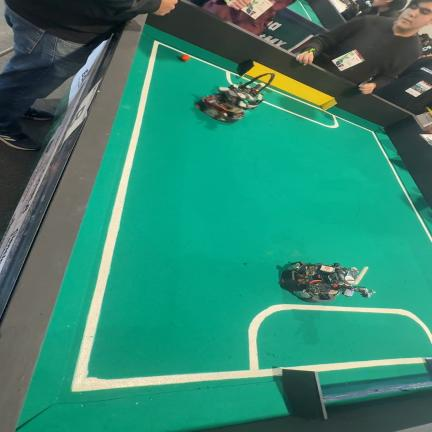cancha: (17, 29, 432, 432)
limites: (71, 41, 432, 392), (264, 102, 432, 243), (191, 56, 240, 84), (271, 88, 324, 112)
pelota: (179, 54, 190, 61)
porteria: (282, 369, 432, 419), (237, 60, 337, 111), (420, 358, 432, 377)
robot: (280, 261, 375, 303), (196, 73, 274, 124)
